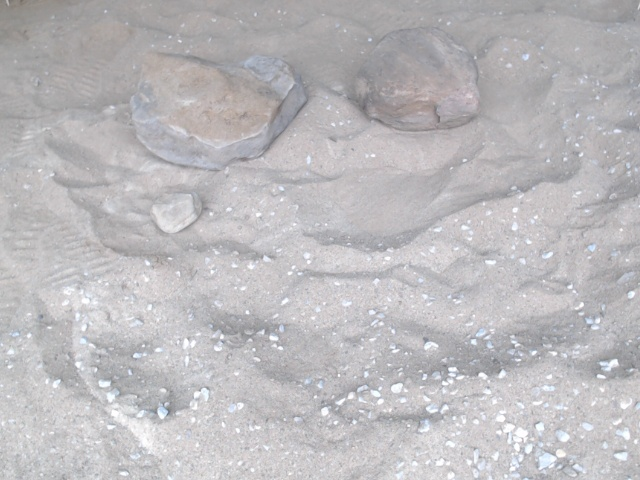rock: (126, 44, 314, 177), (345, 21, 486, 139), (146, 185, 206, 238)
